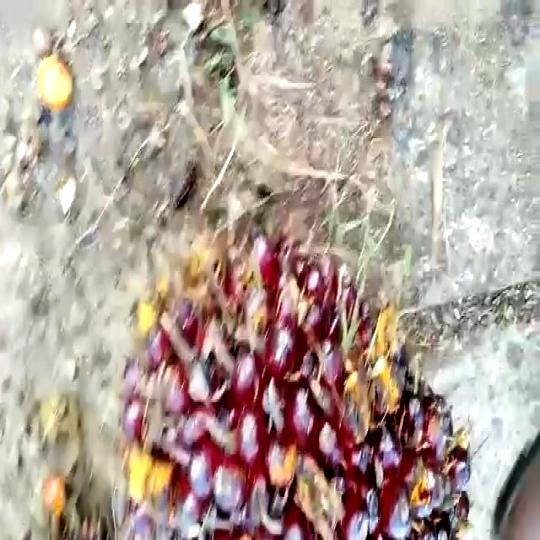kurang masak: (107, 226, 477, 540)
